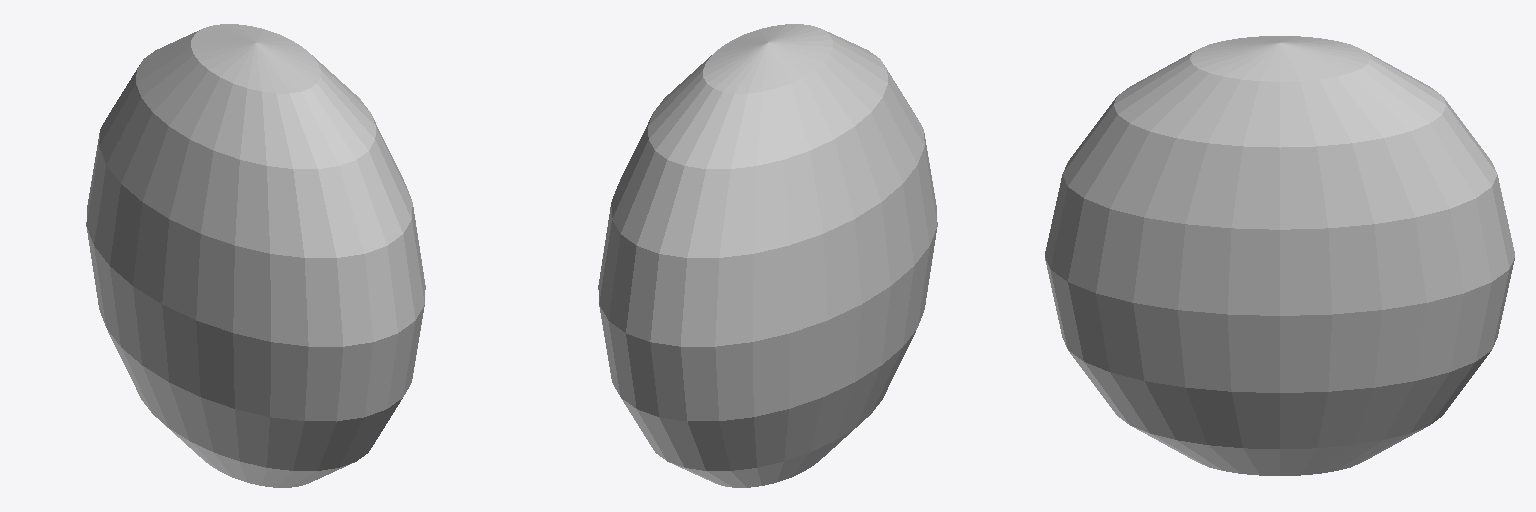
Rendered from Waist.obj.
The picture shows the model from 3 angles: view 1: azimuth 30°, elevation 25°; view 2: azimuth 150°, elevation 25°; view 3: azimuth 270°, elevation 25°; orthographic projection.
Parts seen in each view (by area): view 1: Waist_Sphere.006; view 2: Waist_Sphere.006; view 3: Waist_Sphere.006.
Part boxes in pixels (left/top/right/bottom): Waist_Sphere.006: left=86, top=24, right=425, bottom=487; Waist_Sphere.006: left=598, top=24, right=937, bottom=487; Waist_Sphere.006: left=1045, top=36, right=1514, bottom=475.
Size of the model in its own units: 0.993 by 1.65 by 1.65.